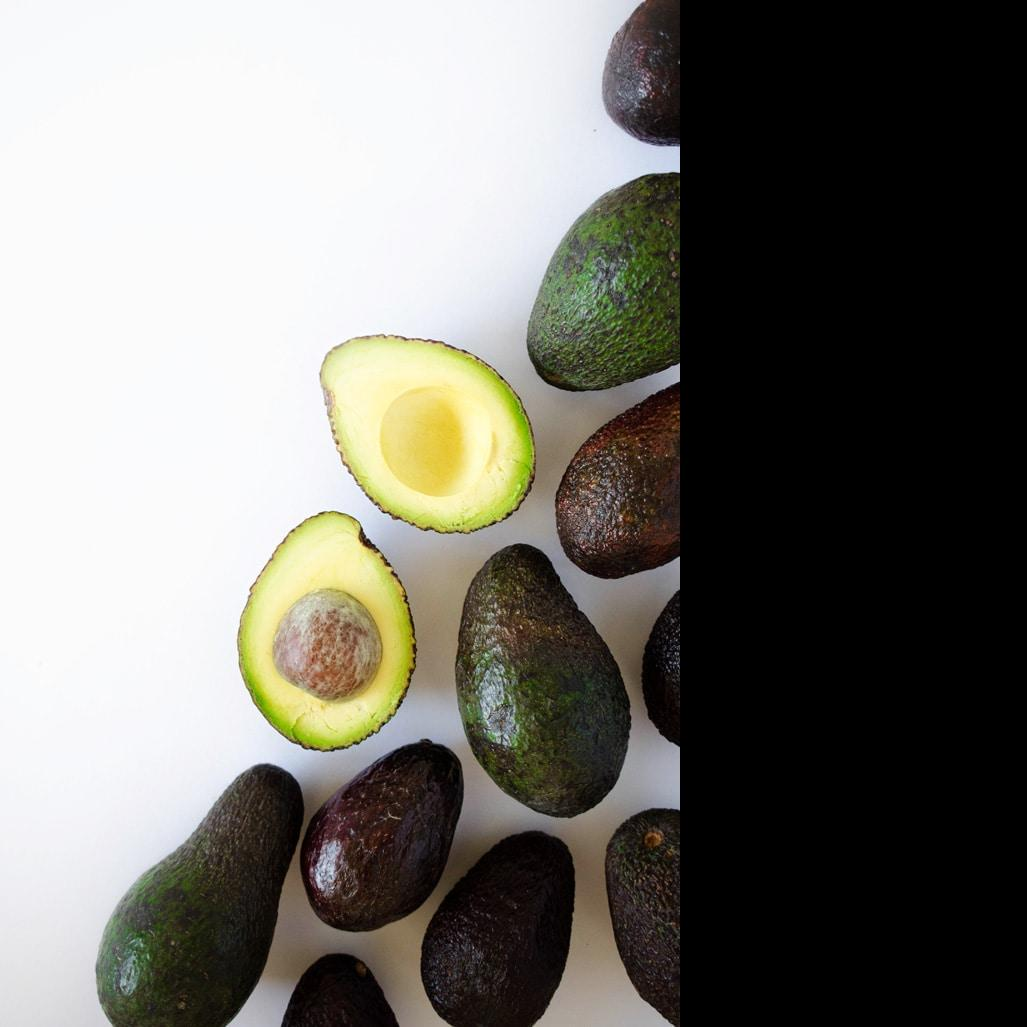almost: (95, 763, 305, 1027), (455, 545, 631, 819)
ripe: (300, 740, 462, 933), (421, 830, 577, 1027), (556, 381, 680, 580), (605, 808, 679, 1027), (602, 1, 683, 146)
unripe: (527, 173, 678, 394)
